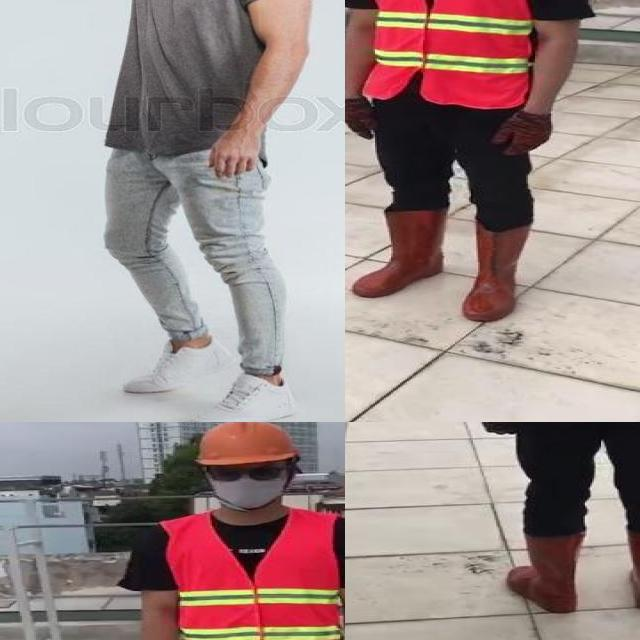boots: (354, 209, 448, 298), (507, 530, 583, 613), (464, 224, 528, 322), (624, 529, 640, 610)
face_mask: (210, 463, 288, 505)
glasses: (206, 462, 282, 483)
hand_glove: (491, 108, 551, 155), (345, 98, 382, 143), (480, 422, 514, 436)
hand_noglove: (203, 101, 272, 184)
head_helmet: (197, 422, 300, 469)
person: (19, 0, 315, 422), (345, 0, 607, 322), (145, 422, 345, 640), (461, 422, 640, 617)
vest: (163, 512, 345, 640), (357, 0, 538, 107)
